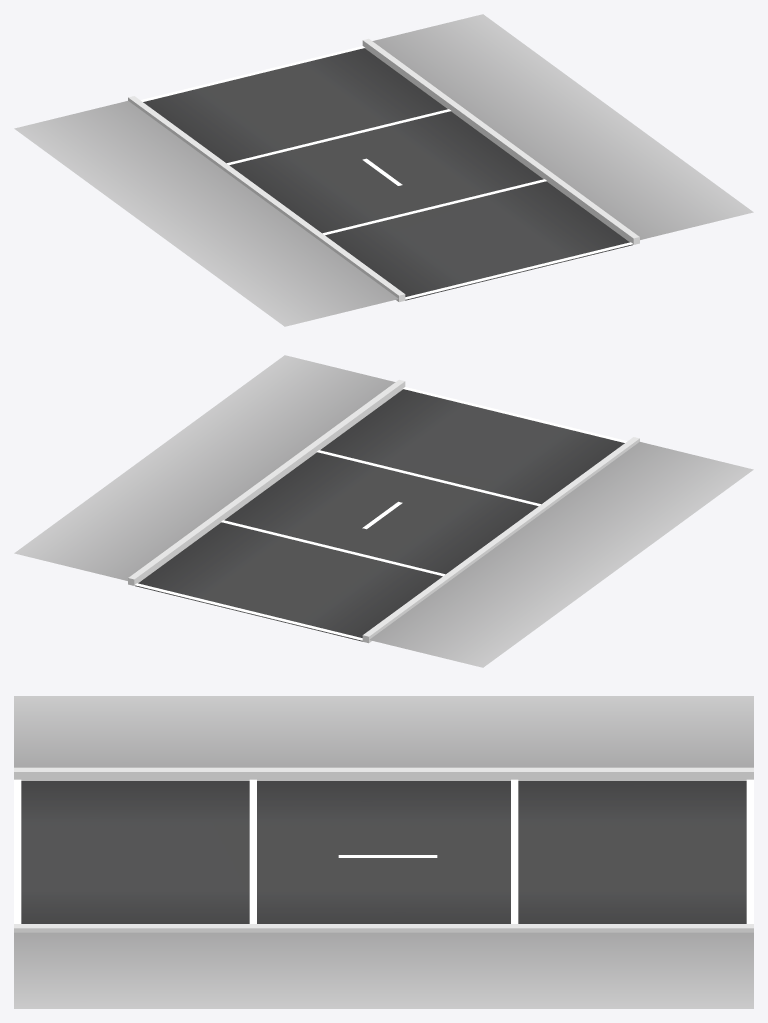
Rendered from city2-road-023.glb.
3 renders of one model, top to bottom at view 1: azimuth 30°, elevation 25°; view 2: azimuth 150°, elevation 25°; view 3: azimuth 270°, elevation 25°, orthographic. The views are drawn at different scales.
Parts seen in each view (by area): view 1: road_023; view 2: road_023; view 3: road_023.
Boxes of the visible parts, x1=… form: road_023: x1=14, y1=14, x2=753, y2=326; road_023: x1=14, y1=355, x2=753, y2=667; road_023: x1=14, y1=696, x2=753, y2=1008.
Size of the model in its own units: 15 by 0.2 by 15.
1 material, 1 textured.
